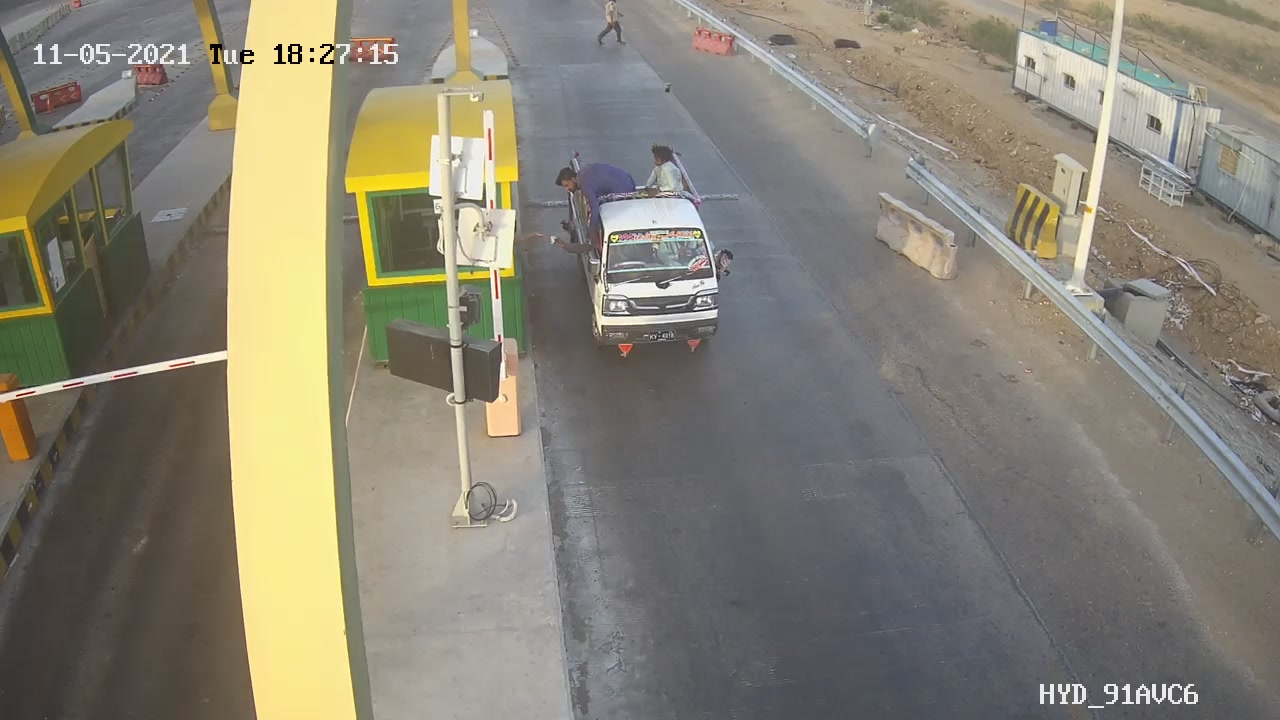F1: (565, 179, 739, 375)
